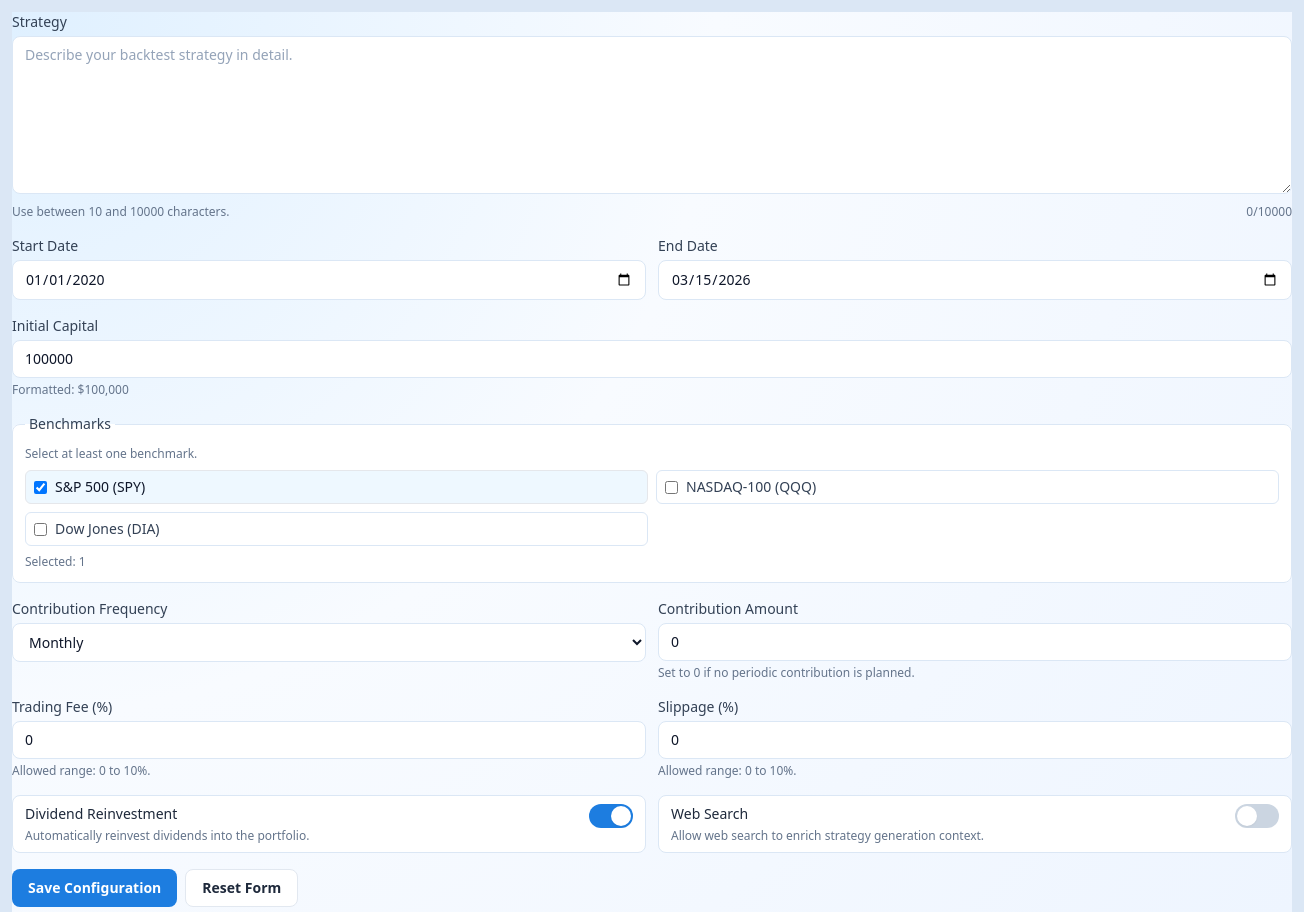
Test: ConfigForm › updates strategy character counter
Check: the text "0/10000" is shown, box [1246,204,1292,220]
Type "Trend following strategy with volatility filter" into the text box labelled "Strategy" at (652, 115), box [12,36,1292,194]
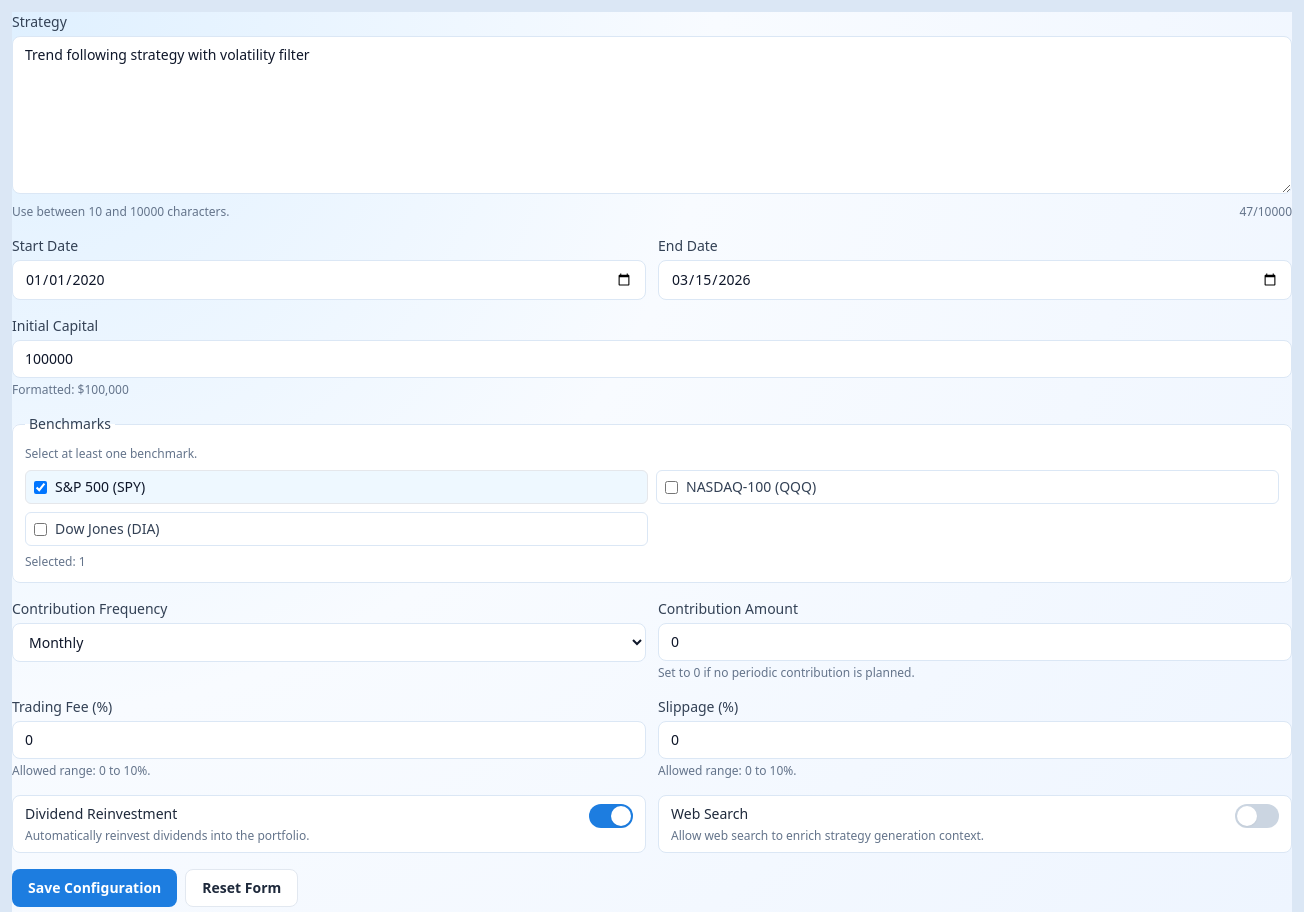
Check: the text "47/10000" is shown, box [1240,204,1292,220]
